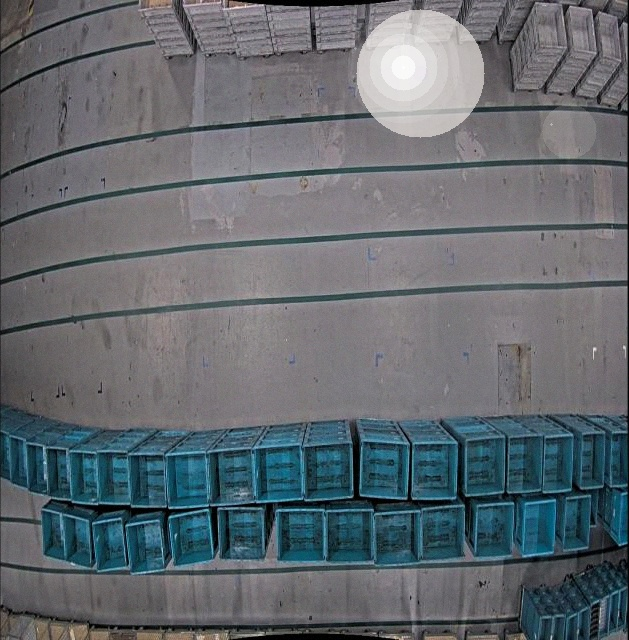Box: (303, 438, 355, 501), (359, 436, 409, 500), (410, 436, 458, 501), (325, 505, 374, 566), (276, 505, 325, 566), (419, 501, 466, 563), (217, 504, 266, 563), (257, 442, 304, 503), (372, 507, 418, 567), (463, 434, 506, 498), (472, 499, 516, 561), (165, 449, 210, 509), (170, 508, 214, 569), (215, 445, 256, 506), (125, 516, 164, 575), (521, 497, 556, 557), (92, 515, 128, 572), (541, 430, 573, 491), (134, 451, 167, 508), (561, 493, 592, 552), (512, 432, 542, 492), (63, 513, 93, 568), (72, 447, 100, 504), (577, 429, 604, 488), (104, 448, 131, 505), (41, 506, 65, 564), (47, 445, 71, 500), (26, 439, 48, 493), (608, 429, 628, 487), (607, 488, 627, 545), (10, 434, 27, 490), (617, 582, 628, 635), (0, 429, 11, 482), (599, 593, 610, 640), (136, 0, 173, 11), (535, 615, 551, 640), (578, 605, 589, 640), (590, 598, 599, 640), (552, 612, 565, 640), (610, 589, 617, 637), (566, 612, 577, 640)
